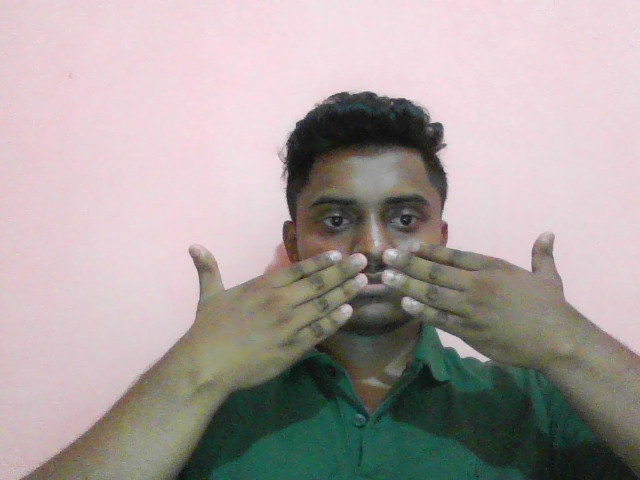Thank You: (165, 230, 597, 407)
